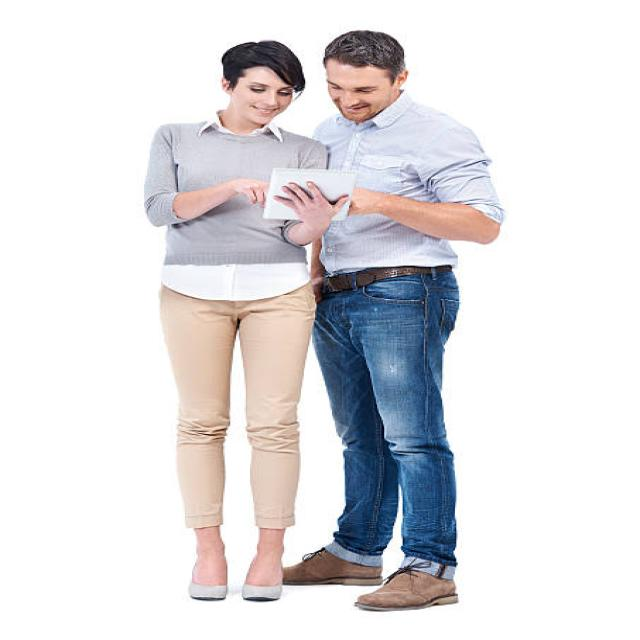Edited images: (130, 19, 494, 616)
